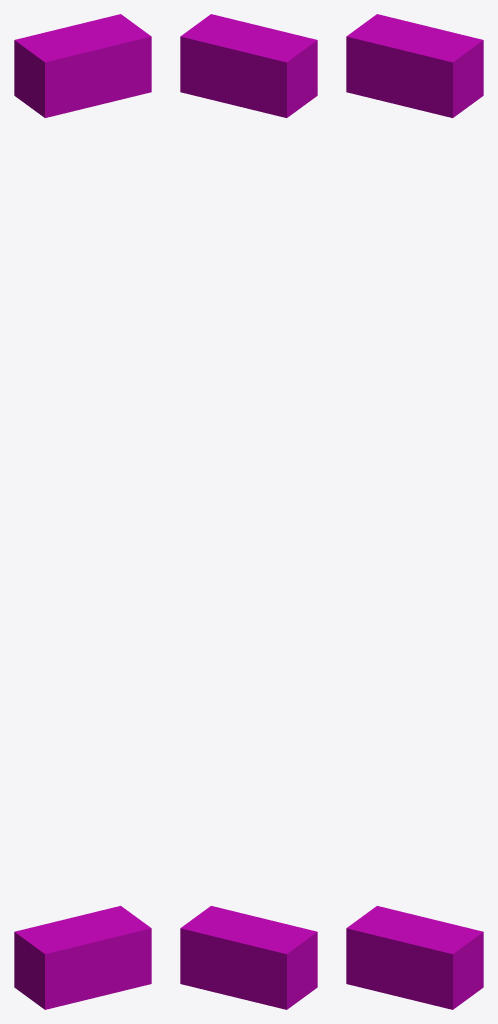
3 views of the same model, side by side, from view 1: azimuth 30°, elevation 25°; view 2: azimuth 150°, elevation 25°; view 3: azimuth 330°, elevation 25° (orthographic).
Visible parts, largest first — view 1: 107.1; view 2: 107.1; view 3: 107.1.
Part boxes in pixels (x1,y1,x2,y2): 107.1: (14,14,151,1009); 107.1: (180,14,317,1009); 107.1: (346,14,483,1009).
Bounding box in the file's own units: 20 × 170 × 10.
1 material, 1 textured.
